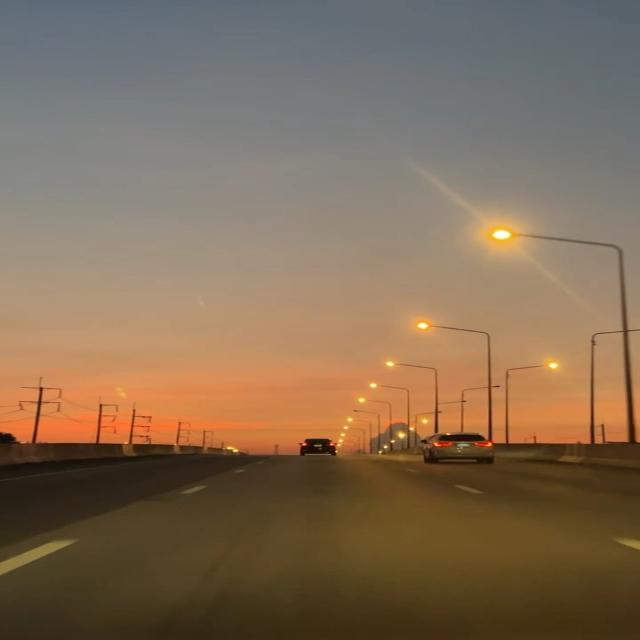Poth-hole: (114, 453, 524, 611)
